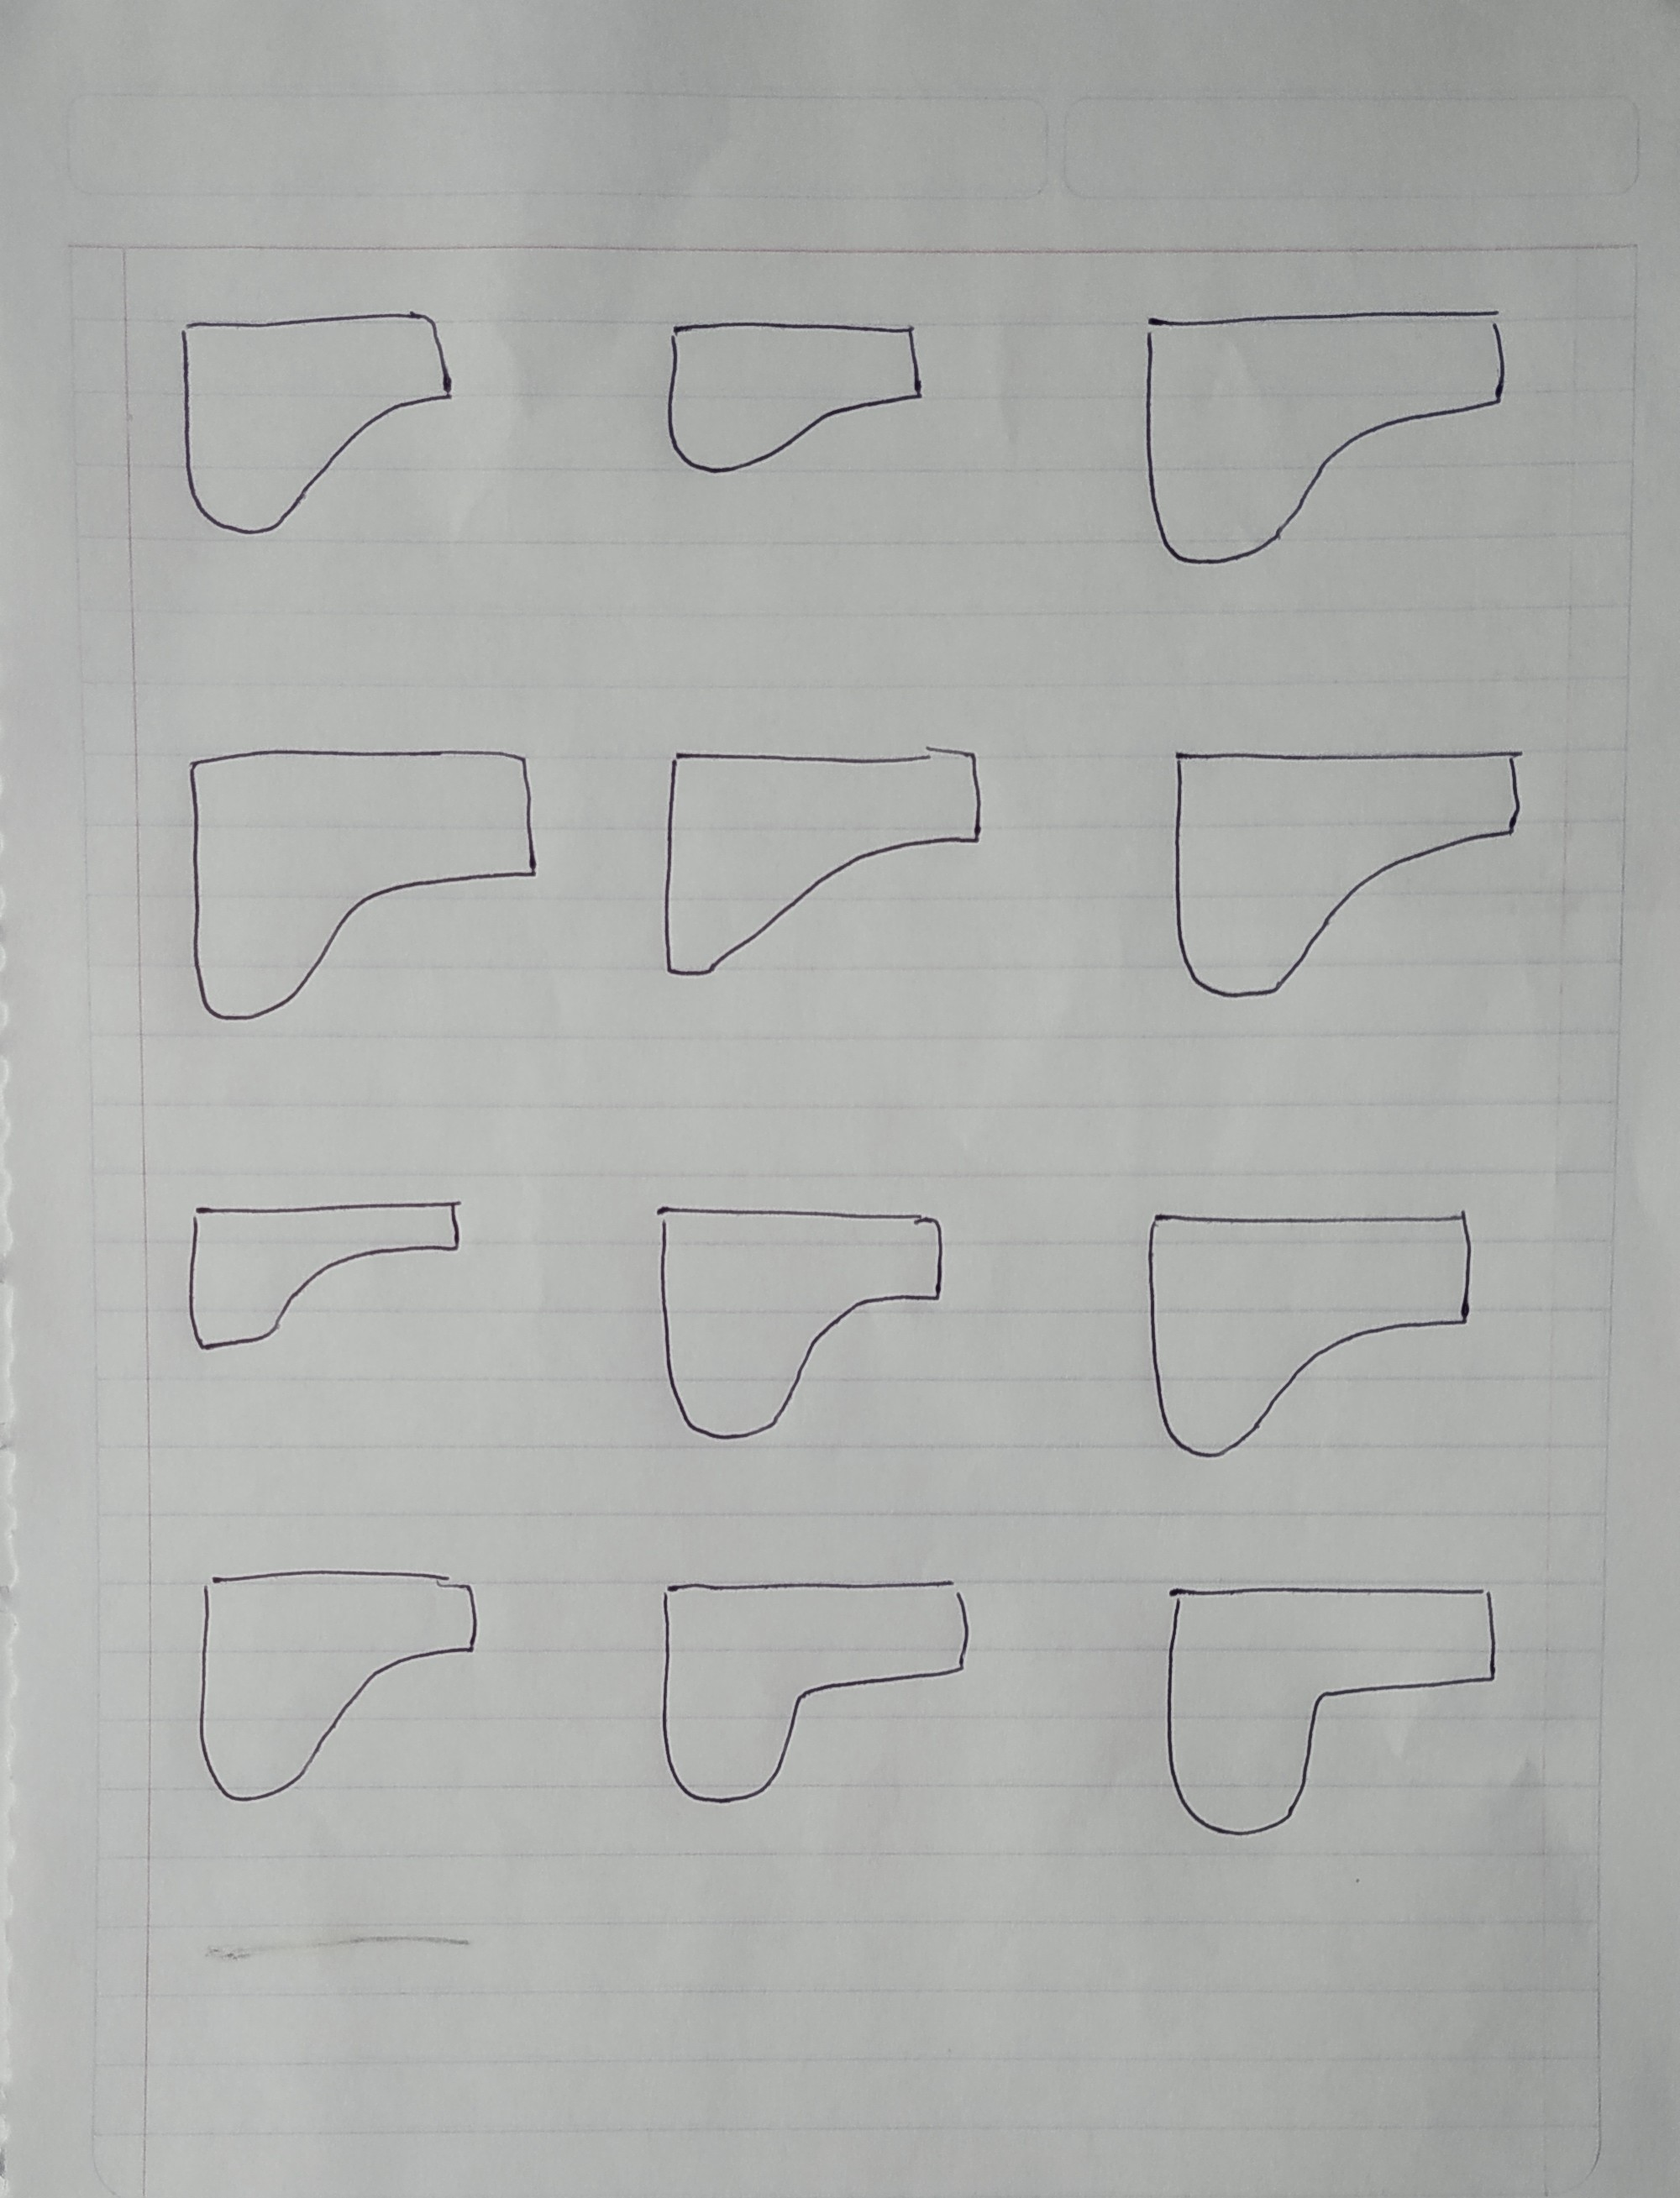print: (175, 729, 552, 1034), (1158, 734, 1541, 1014), (1131, 298, 1518, 573), (1149, 1561, 1511, 1840), (1136, 1189, 1482, 1468), (644, 730, 997, 1002), (639, 1175, 967, 1455), (651, 1566, 985, 1815), (164, 296, 462, 559), (189, 1556, 480, 1813), (176, 1187, 471, 1367), (656, 307, 939, 487)
